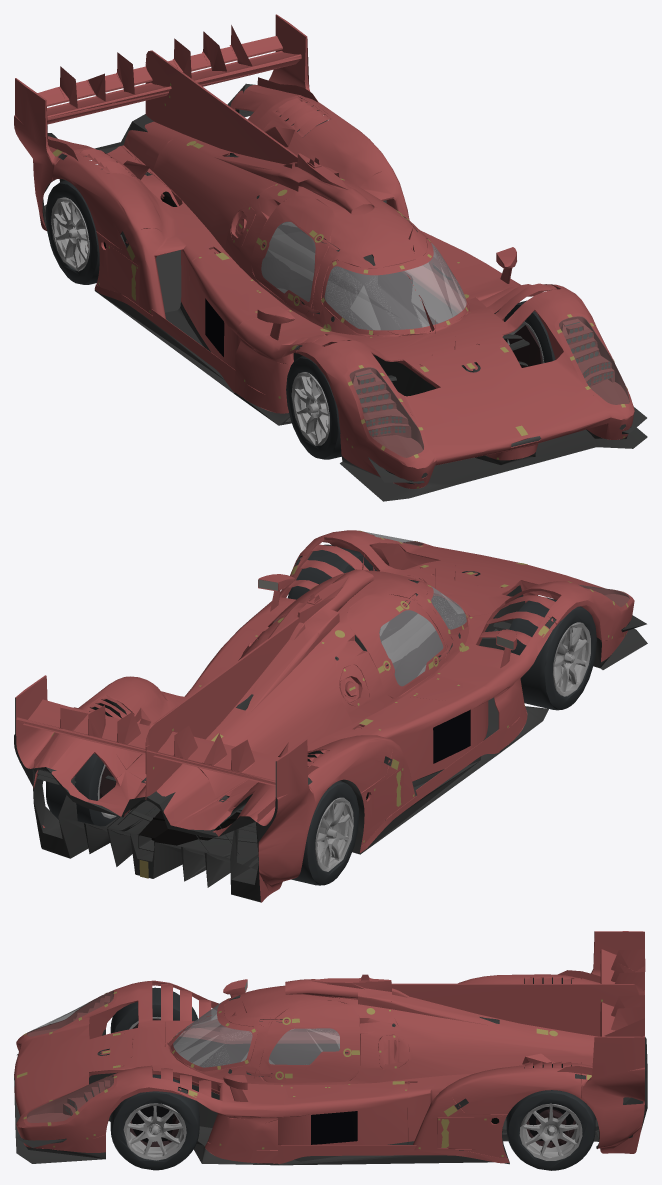
The model's file is glickenhaus-scg-007.glb.
The picture shows the model from 3 angles, top to bottom: view 1: azimuth 30°, elevation 25°; view 2: azimuth 150°, elevation 25°; view 3: azimuth 270°, elevation 25°; orthographic projection. The views are drawn at different scales.
Visible parts, largest first — view 1: BODY, GLASS, WHEEL_RR, WHEEL_RF, WHEEL_LF; view 2: BODY, WHEEL_RF, GLASS, WHEEL_RR, WHEEL_LR, WHEEL_LF; view 3: BODY, GLASS, WHEEL_LF, WHEEL_LR, WHEEL_RF.
Boxes of the visible parts, x1,y1,x2,y2 form: BODY: [14, 14, 647, 501]; GLASS: [261, 221, 629, 457]; WHEEL_RR: [45, 180, 99, 284]; WHEEL_RF: [286, 356, 341, 459]; WHEEL_LF: [504, 300, 555, 363]; BODY: [14, 530, 647, 902]; WHEEL_RF: [503, 597, 596, 710]; GLASS: [273, 532, 629, 686]; WHEEL_RR: [291, 780, 359, 885]; WHEEL_LR: [46, 753, 118, 826]; WHEEL_LF: [287, 544, 376, 599]; BODY: [14, 931, 647, 1165]; GLASS: [27, 990, 339, 1122]; WHEEL_LF: [110, 1074, 199, 1170]; WHEEL_LR: [506, 1090, 595, 1170]; WHEEL_RF: [110, 987, 197, 1033].
Size of the model in its own units: 2.01 by 1.24 by 4.96.
